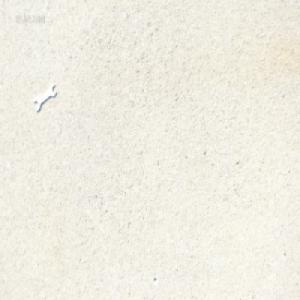Wrench: (34, 82, 57, 114)
